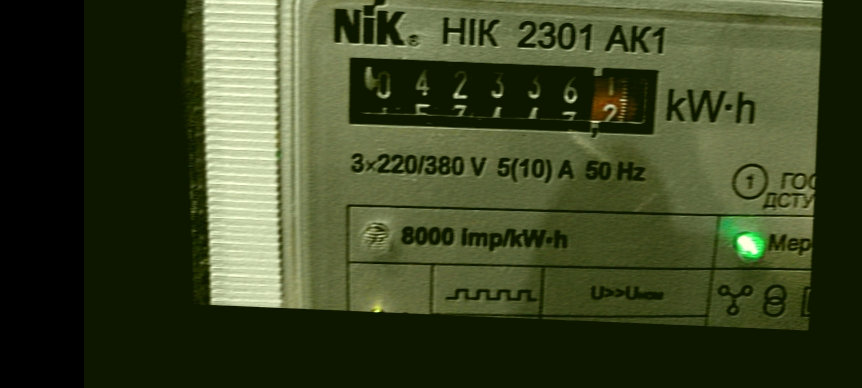0: (374, 66, 394, 100)
1: (604, 70, 617, 96)
2: (450, 65, 472, 100), (600, 101, 618, 122)
3: (487, 66, 506, 99), (526, 68, 544, 100)
4: (414, 64, 432, 96)
6: (561, 71, 582, 106)
screen: (334, 41, 673, 147)
